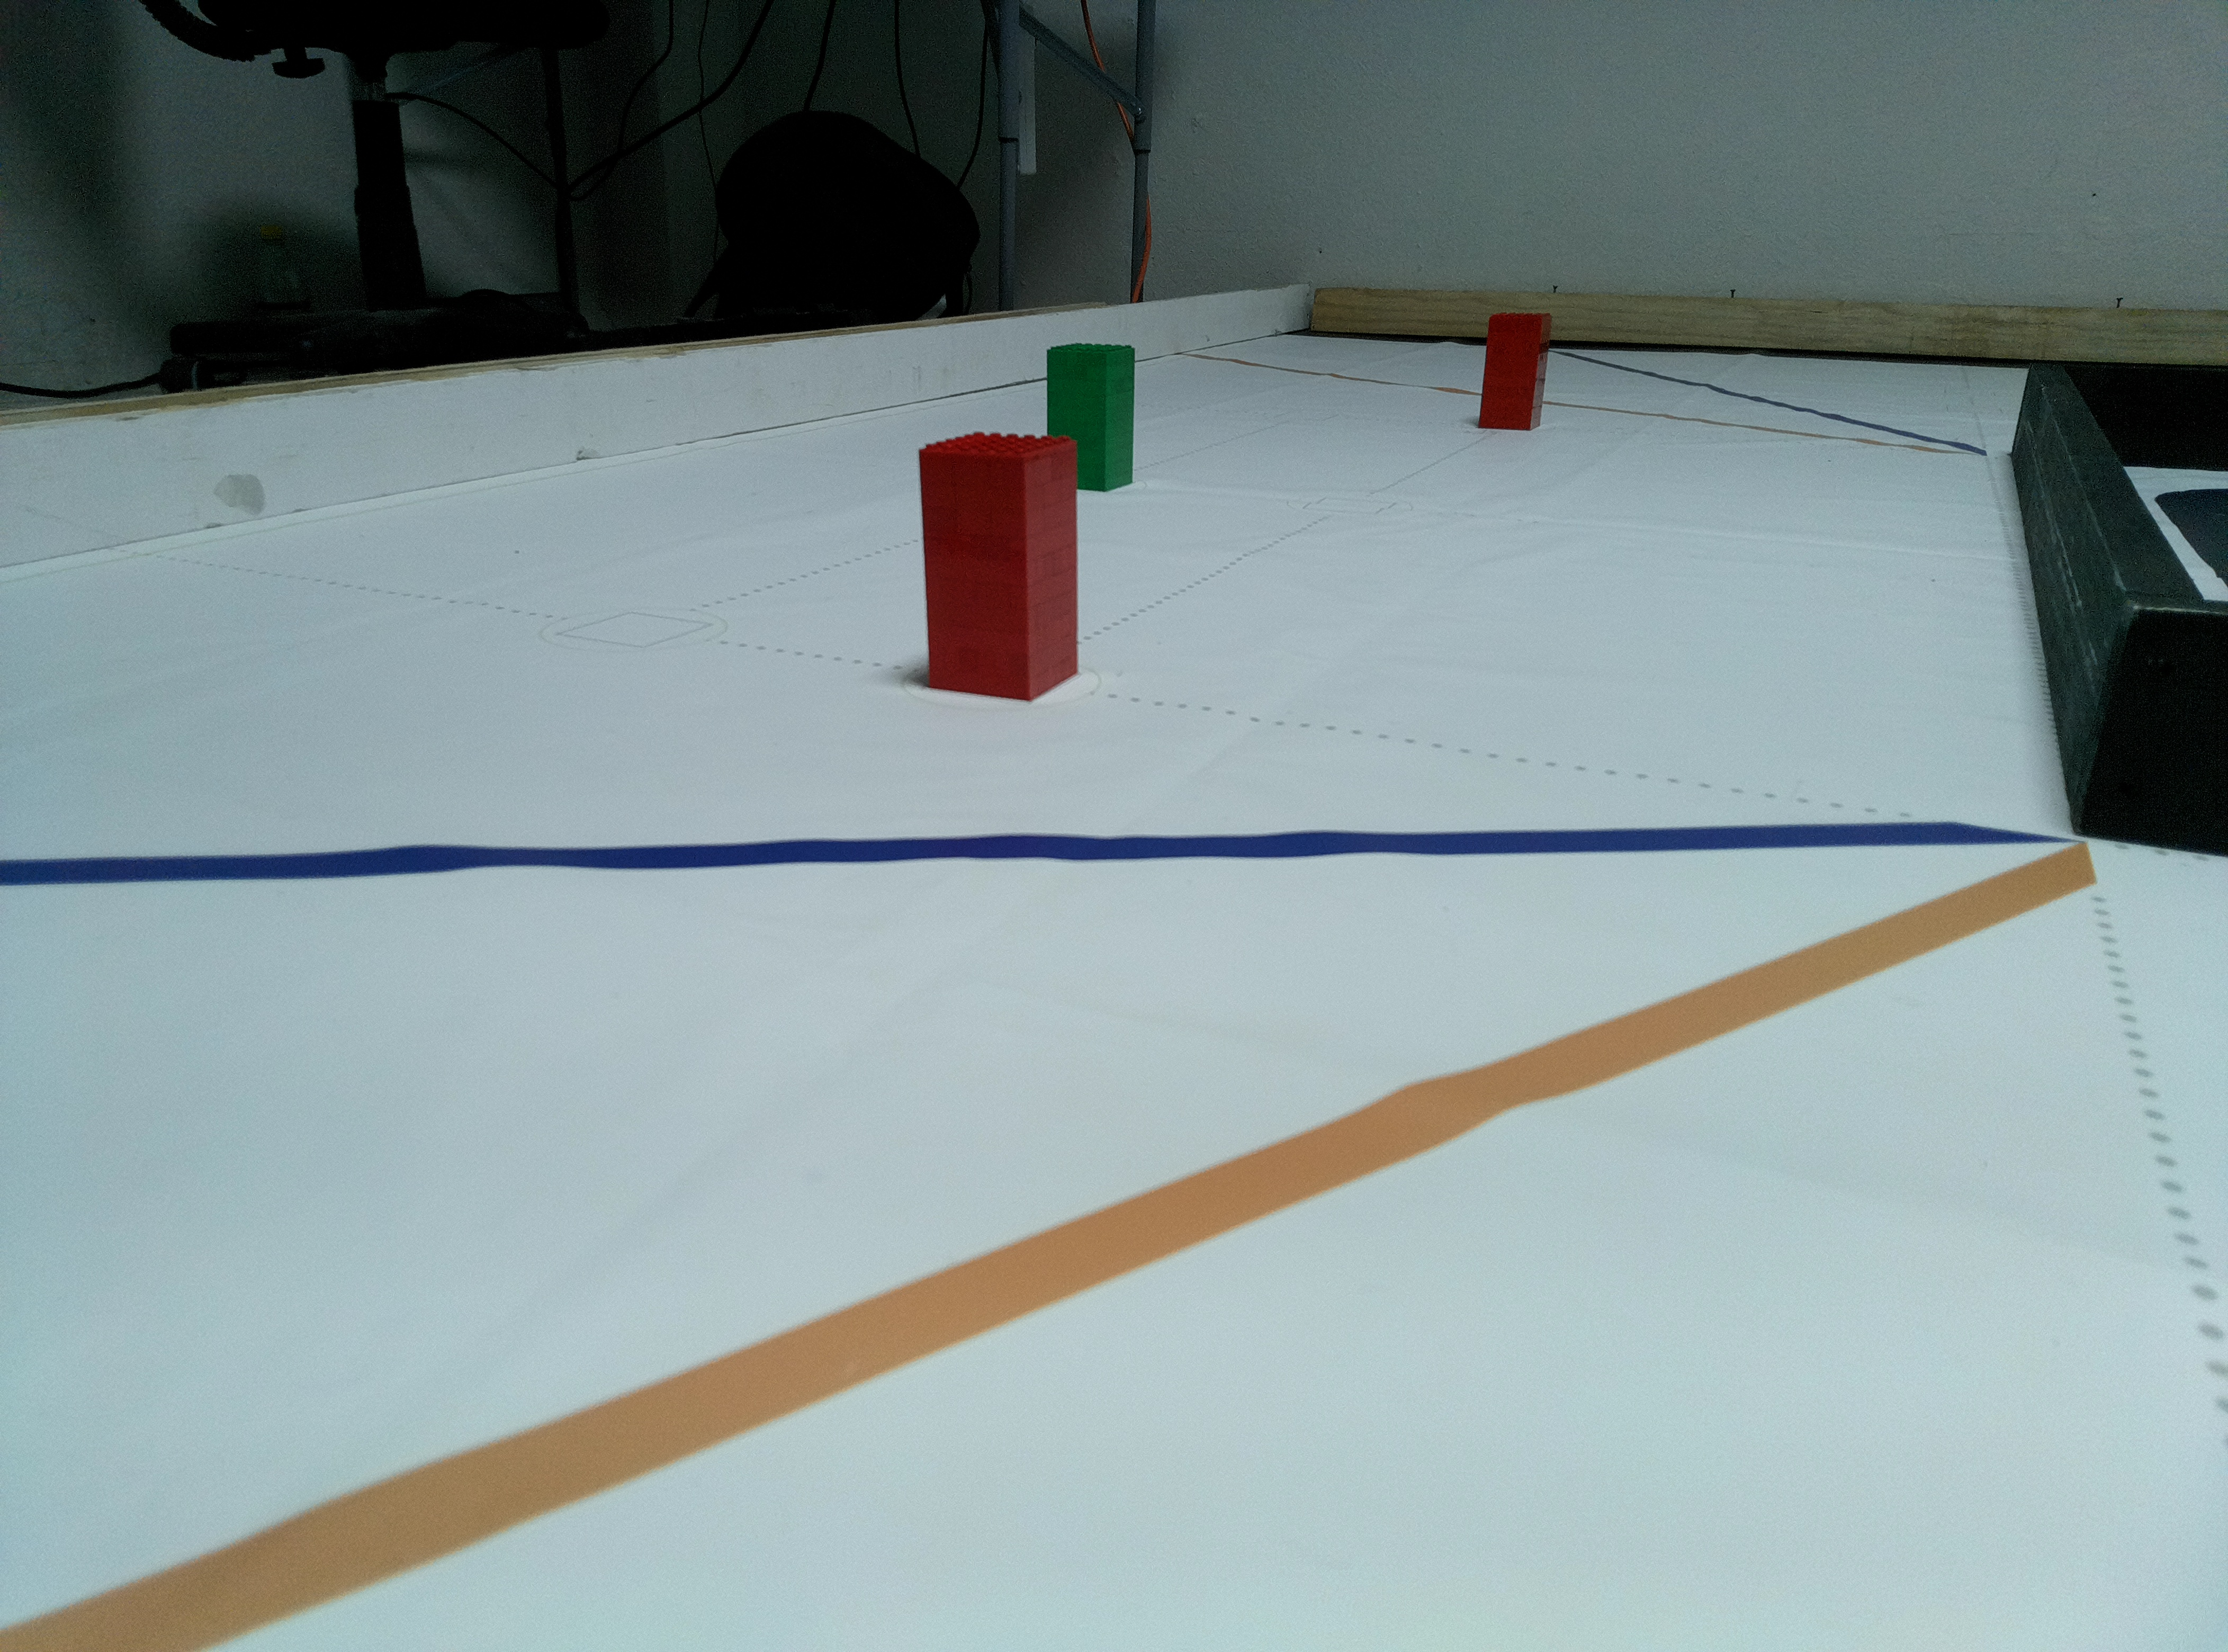greenbox: (1045, 342, 1138, 493)
redbox: (914, 432, 1079, 701), (1477, 312, 1551, 432)
